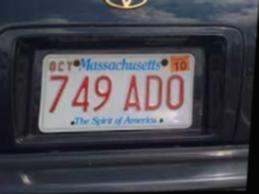License_Plate: (39, 53, 196, 132)
